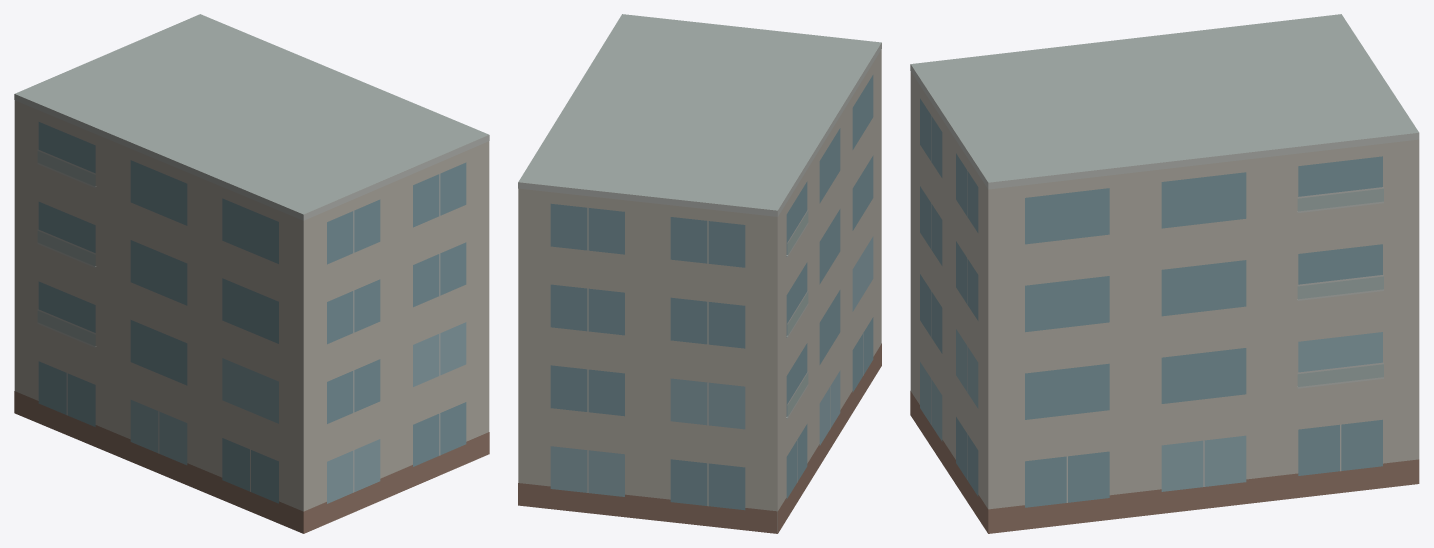
The model's file is survey-upis-32720551.glb.
3 views of the same model, side by side, from view 1: azimuth 30°, elevation 25°; view 2: azimuth 150°, elevation 25°; view 3: azimuth 270°, elevation 25° (orthographic). The views are drawn at different scales.
Parts seen in each view (by area): view 1: survey-upis-32720551.tmp; view 2: survey-upis-32720551.tmp; view 3: survey-upis-32720551.tmp.
Part boxes in pixels (box(x1,y1,x2,y2)): survey-upis-32720551.tmp: box(14, 14, 489, 533); survey-upis-32720551.tmp: box(518, 14, 881, 533); survey-upis-32720551.tmp: box(910, 14, 1419, 533).
Size of the model in its own units: 12.89 by 12.5 by 16.42.
